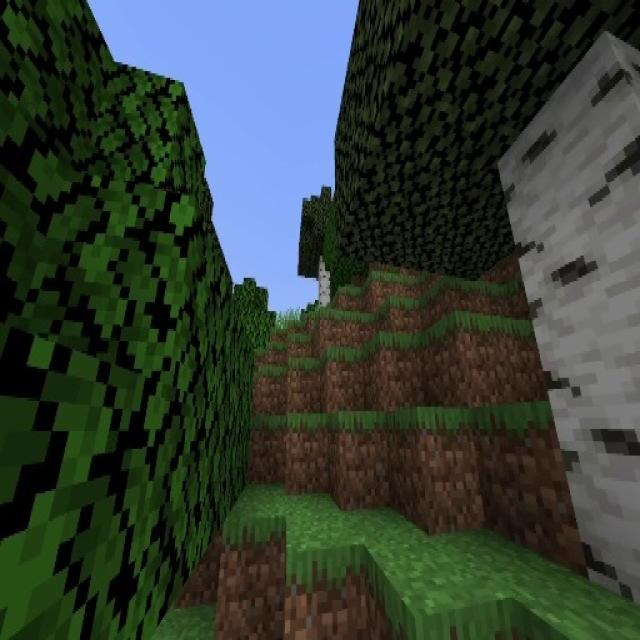birch: (334, 0, 640, 606), (297, 186, 353, 309)
birch_log: (500, 45, 640, 595), (321, 261, 330, 308)
